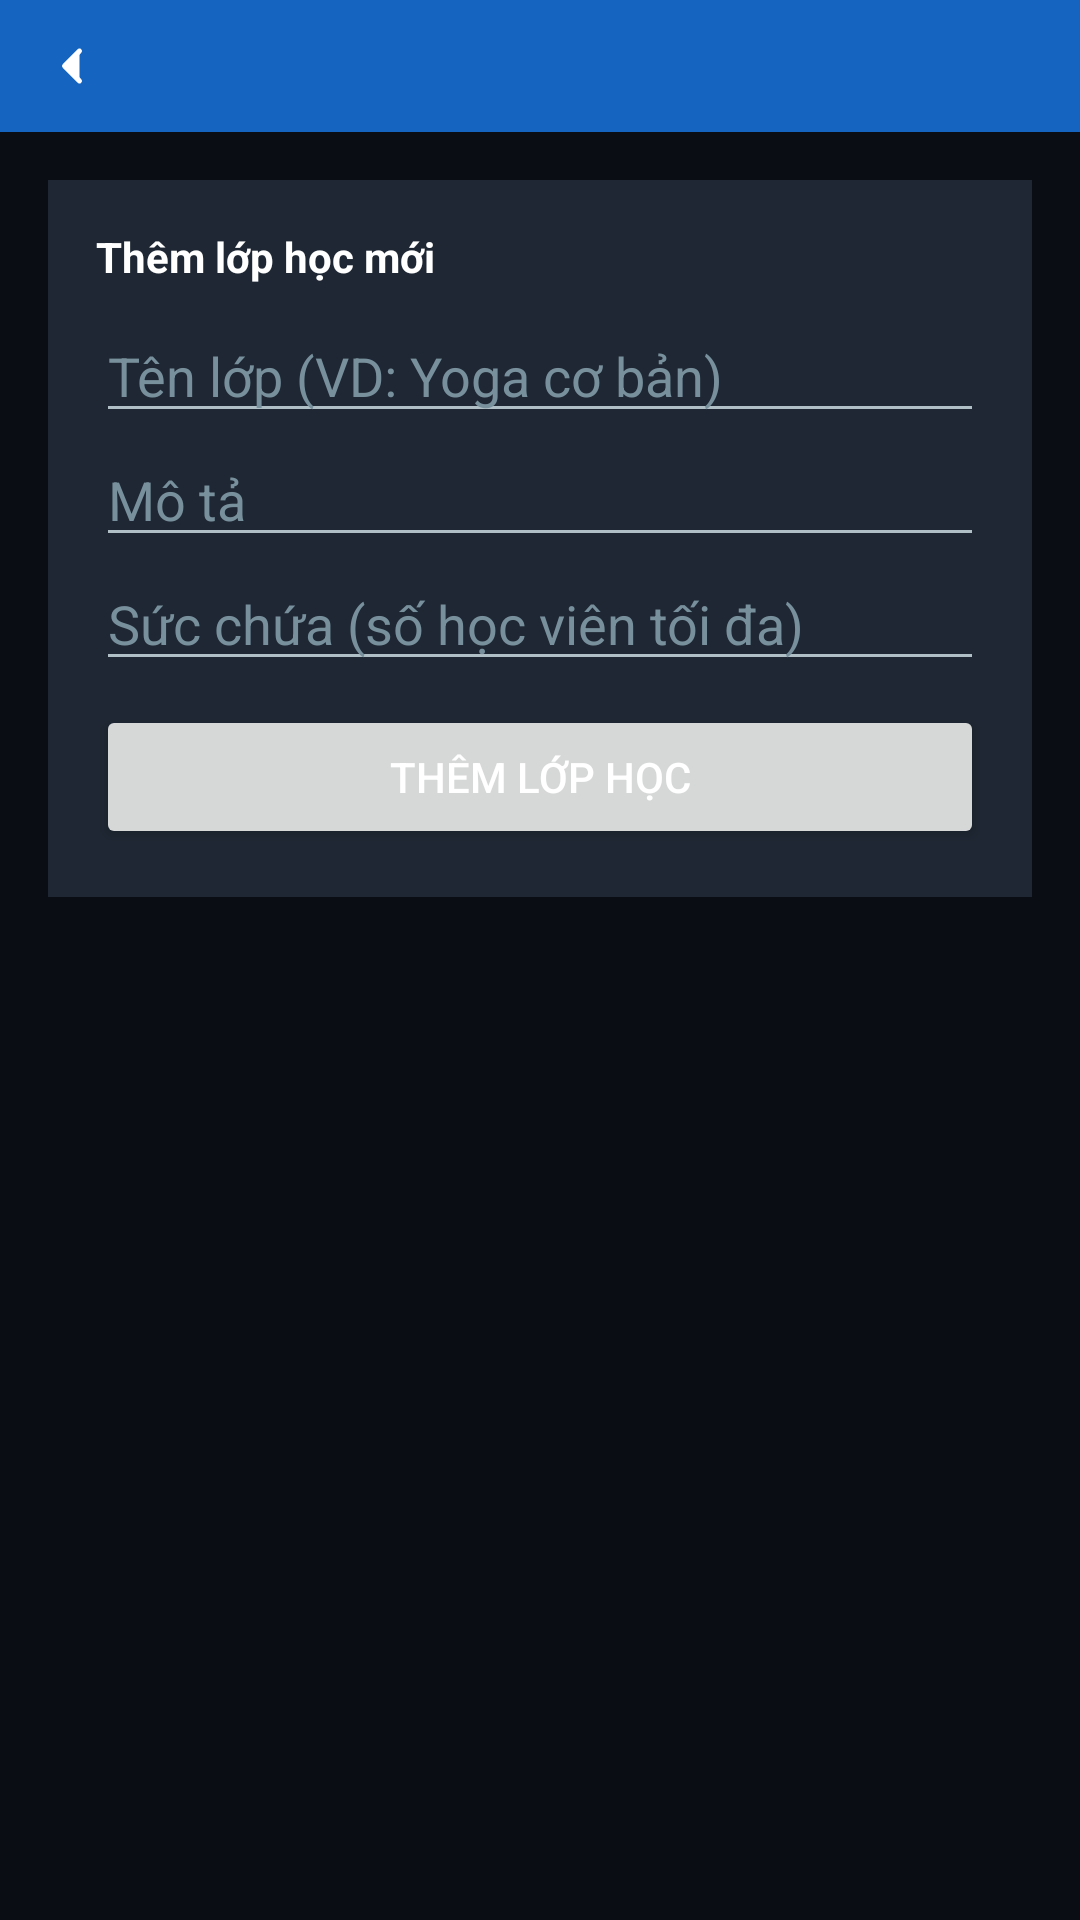

Icon click points for this 1080px×1920px phone screenshot, format point (x, y):
Quay lại: point (72, 66)
